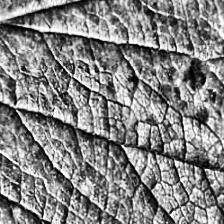Angular Leafspot: (6, 37, 224, 224)
